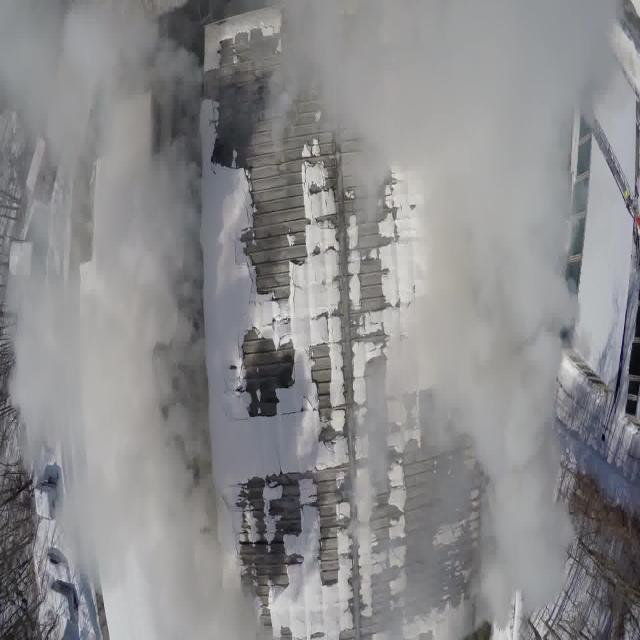Smoke: (346, 0, 621, 619), (5, 0, 265, 631)
